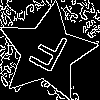F: (22, 27, 71, 83)
